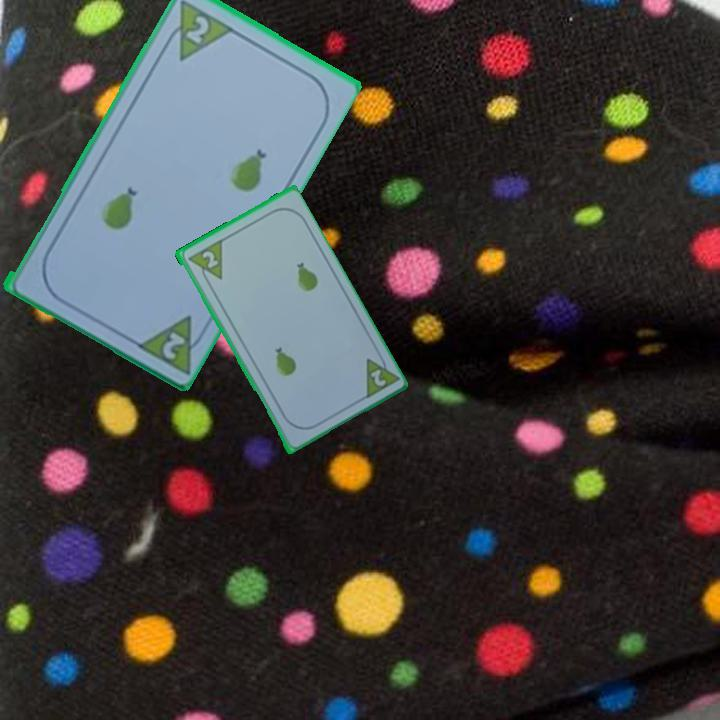2p: (181, 11, 212, 46), (158, 327, 188, 362), (198, 247, 221, 271), (366, 365, 389, 389)
